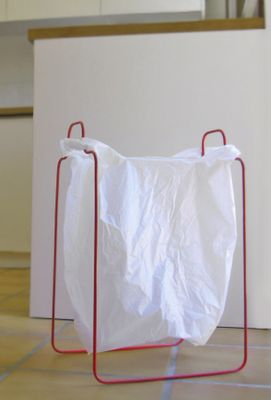papel: (58, 128, 240, 359)
